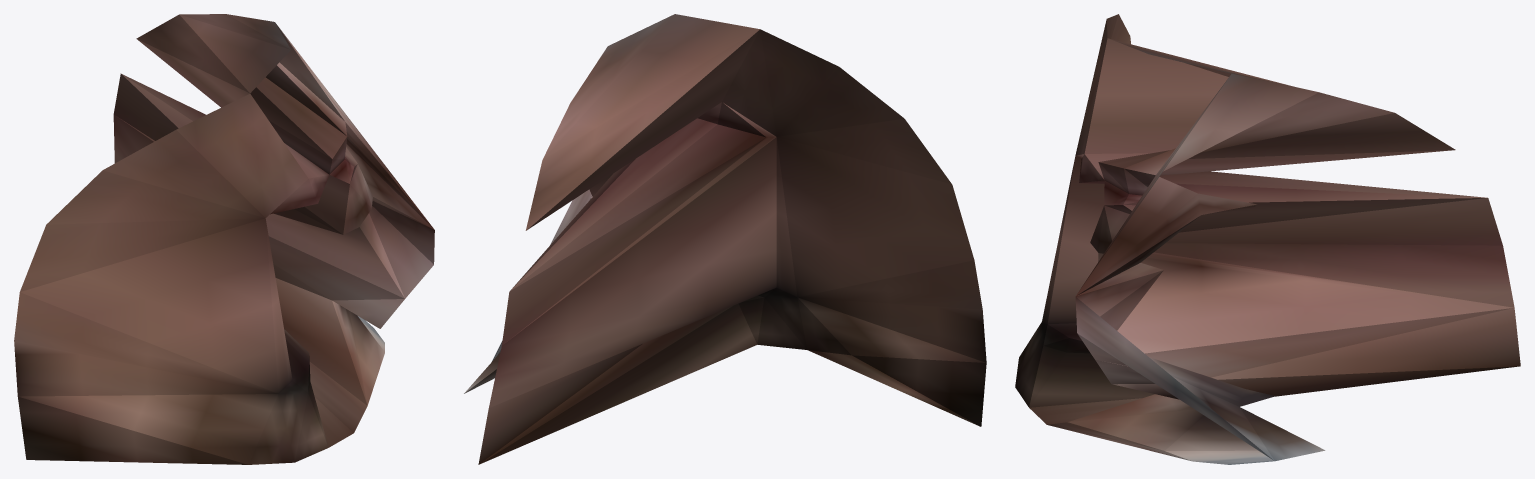
File: fake_2286.obj
3 renders of one model, left to right at view 1: azimuth 30°, elevation 25°; view 2: azimuth 150°, elevation 25°; view 3: azimuth 270°, elevation 25°, orthographic. The views are drawn at different scales.
Size of the model in its own units: 120 by 99 by 125.
